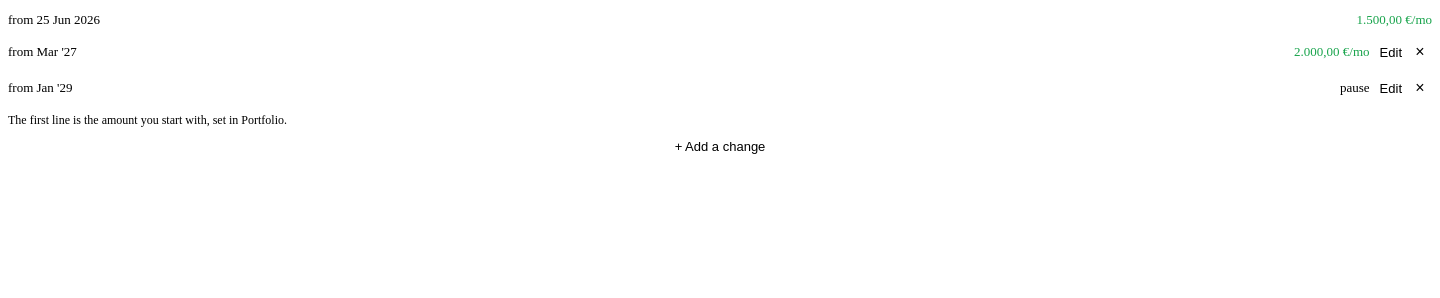
it: ContributionStepsList › editing a change › opens the form on the change as it is, with Save instead of Add
Click the button with aria-label "Edit the change from Mar '27": (1391, 52) left=1378, top=40, right=1404, bottom=64
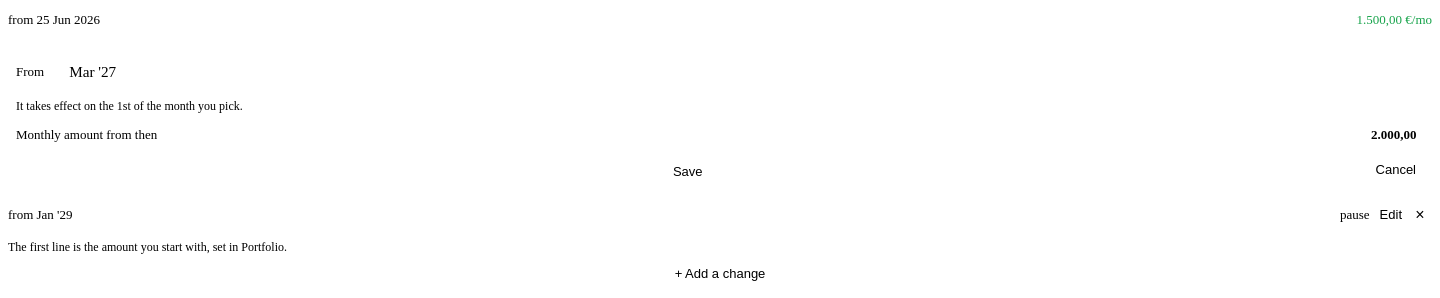
expect the button with aria-label "Change starts in" reads "Mar '27": met, box left=56, top=52, right=1424, bottom=93
expect the field labelled "Monthly amount from then" holds "2.000,00": met, box left=1281, top=122, right=1424, bottom=148
expect the button "Save" is shown: met, box left=16, top=160, right=1360, bottom=183
